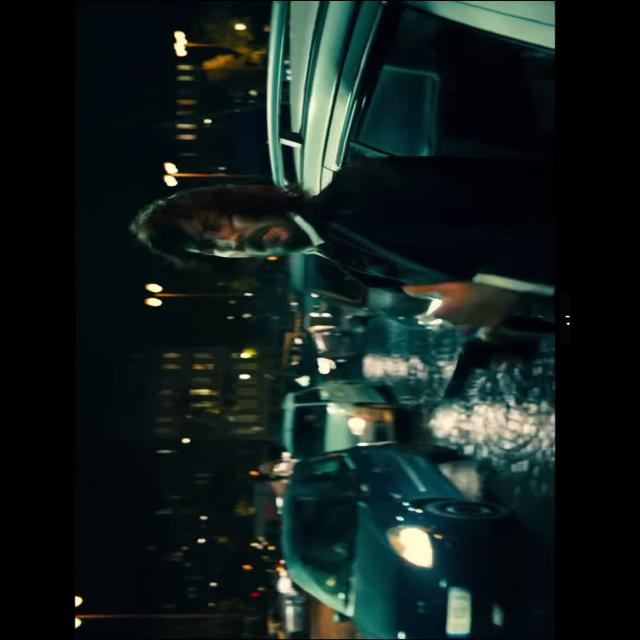weapons: (427, 323, 553, 405)
